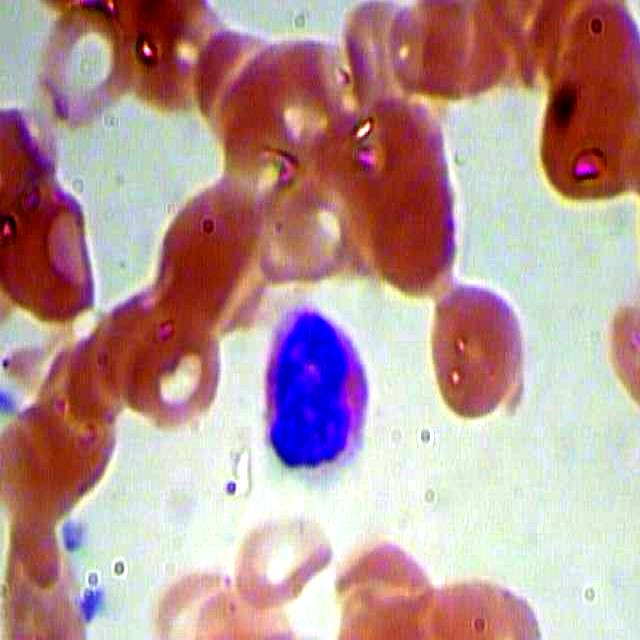Platelets: (77, 576, 103, 629), (61, 516, 88, 553)
RBC: (413, 269, 537, 423), (1, 185, 108, 332), (367, 164, 478, 295), (245, 164, 356, 295), (34, 3, 145, 133), (122, 315, 233, 445), (526, 75, 637, 205), (227, 496, 338, 609), (1, 400, 92, 524), (419, 1, 514, 104)
WBC: (254, 300, 381, 493)
